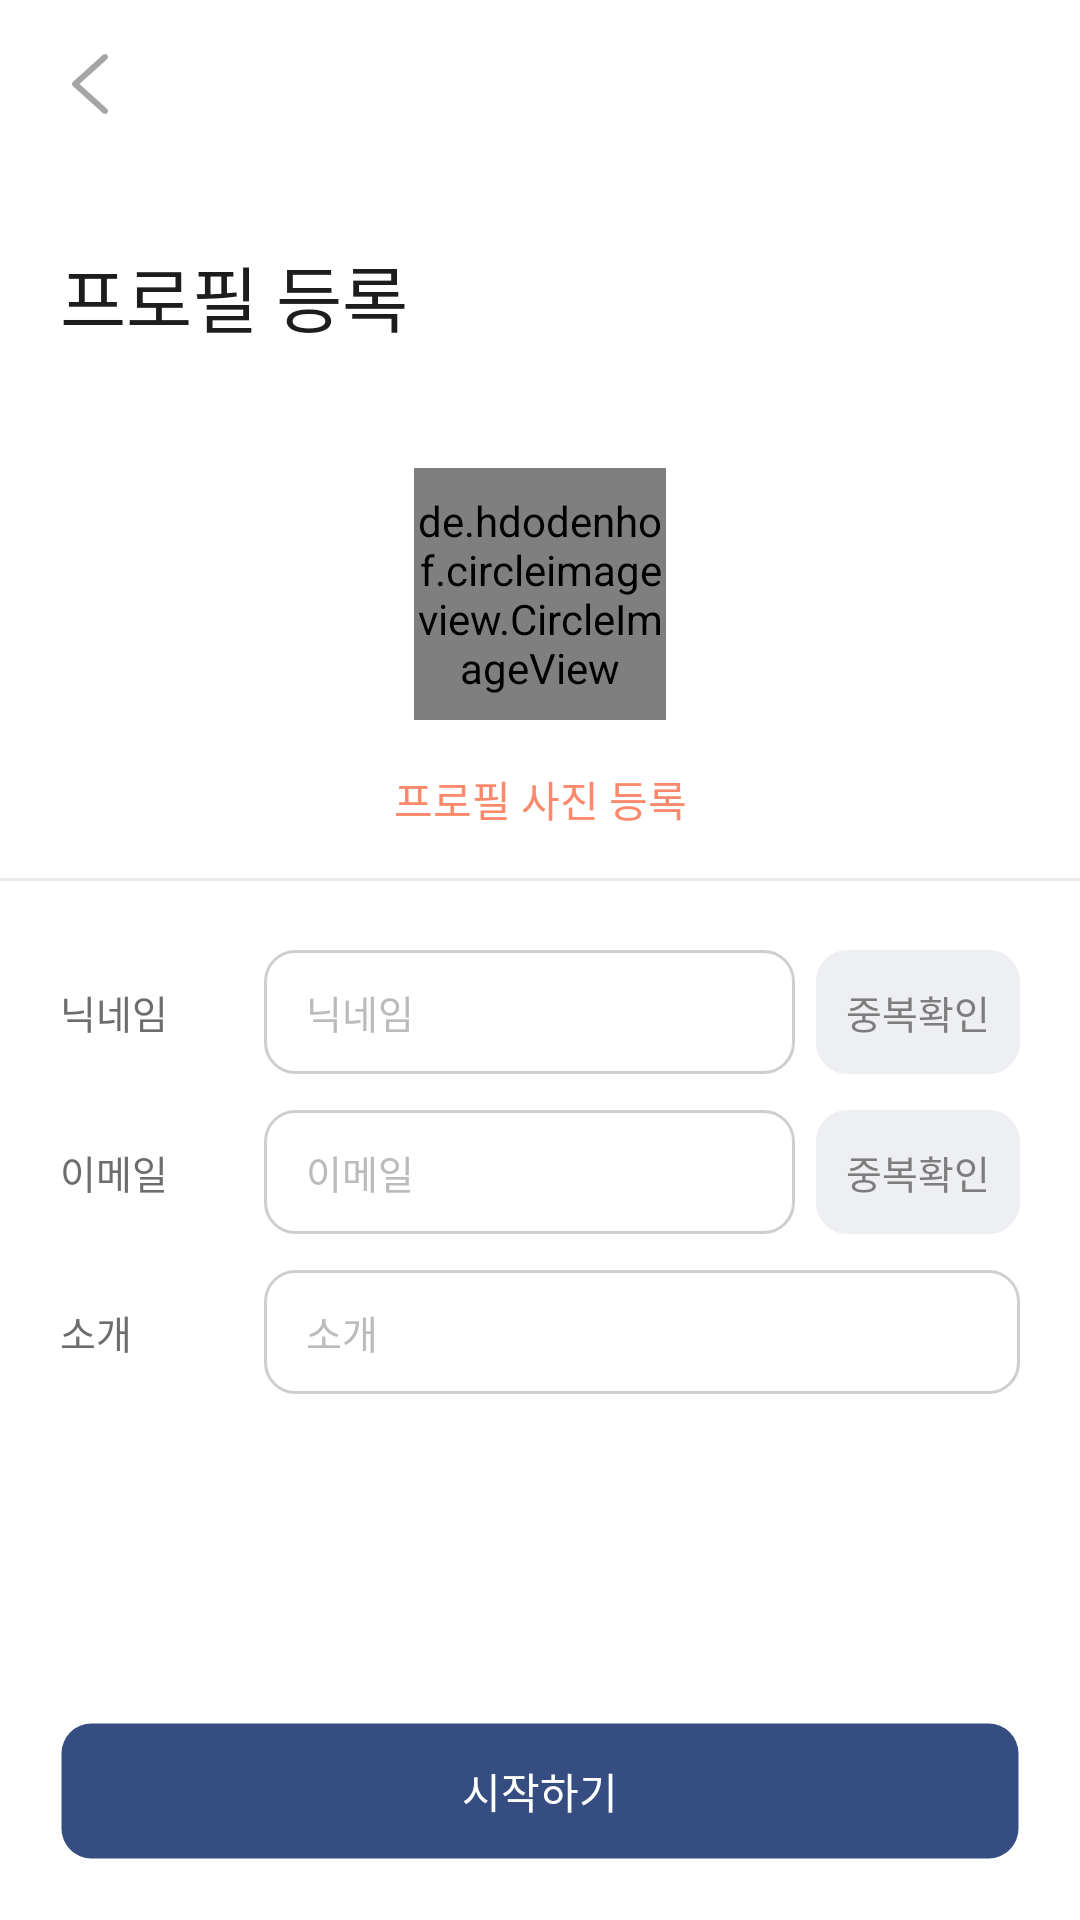

Icon click points for this 1080px x 1920px phone screenshot, format point (x, y):
뒤로가기 버튼: point (90, 84)
